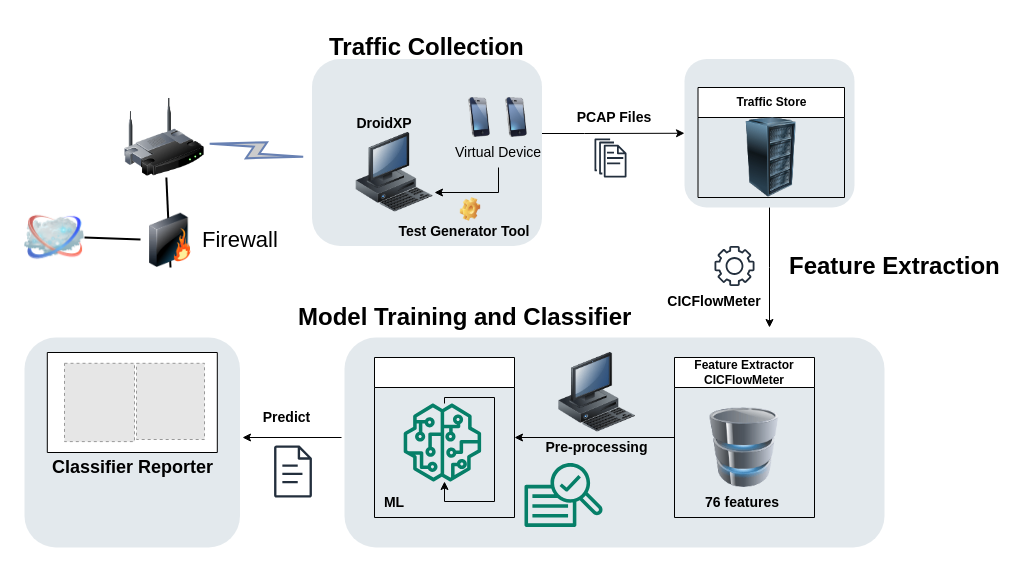
Some shapes in this 1022 by 564 pixel diagram are drawn without their labels. Grey dashed boxes stand in for pictures. The box of each missing label's shape, as (x1, y1, x2, y2) in pixels:
Internet: (24, 207, 84, 267)
Machine Learning Algorithms: (374, 356, 514, 518)
